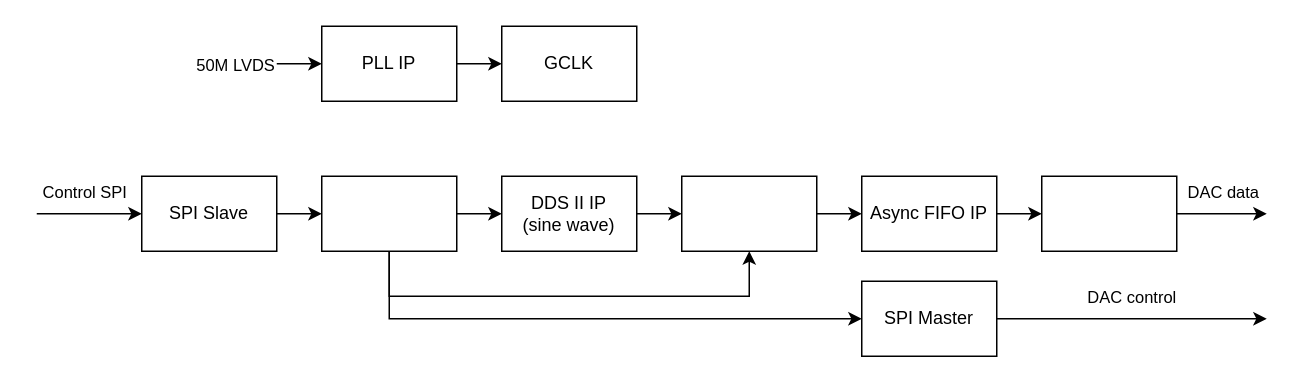
Some shapes in this 1305 by 383 pixel diagram are drawn without their labels. Here are the shapes that lost their labels. From the top down, the centre of each, then its label:
At (388,213): "Control registers".
At (748,213): "Amplitude control".
At (1108,213): "DAC interface".
